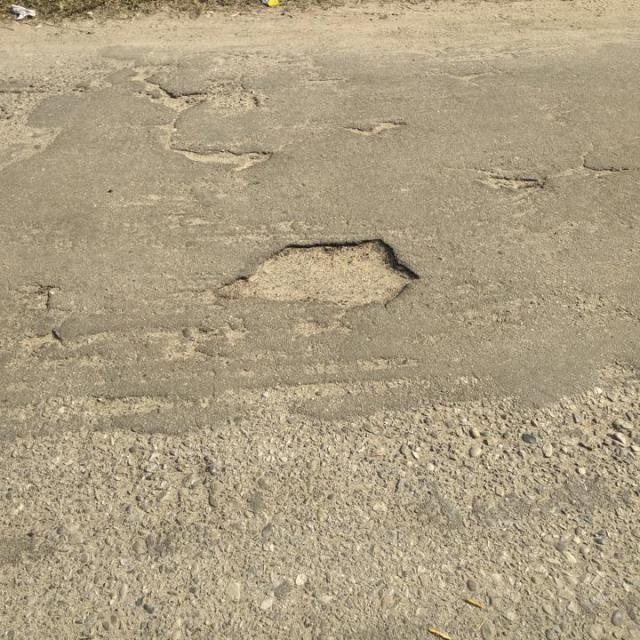Pothole: (217, 233, 423, 308), (212, 238, 419, 310), (166, 136, 280, 172), (135, 76, 210, 121), (133, 76, 210, 112), (471, 172, 557, 197), (166, 146, 276, 162), (346, 113, 408, 141)
